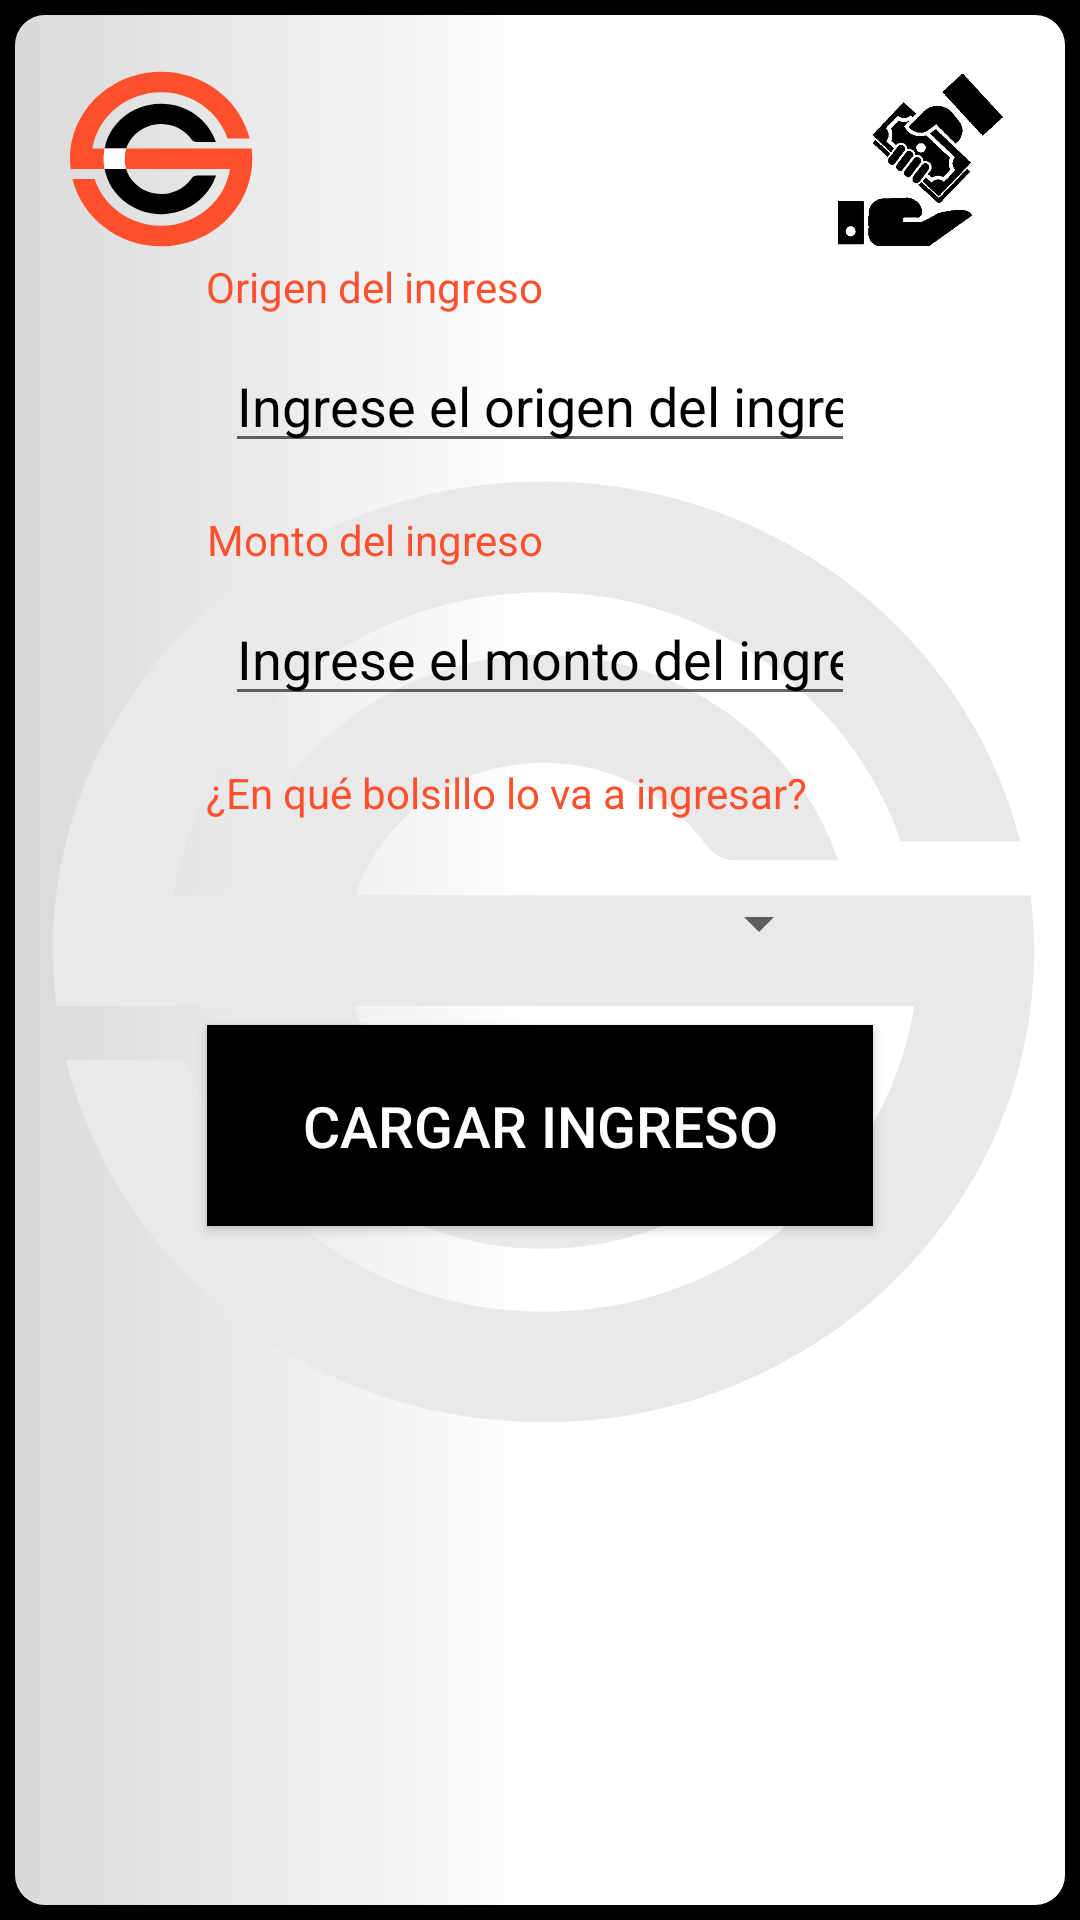

Where icons sit on this 1080×1920 app screen, as BBox(x1, y1, x2, y2):
getinpaid: BBox(838, 74, 1003, 246)
